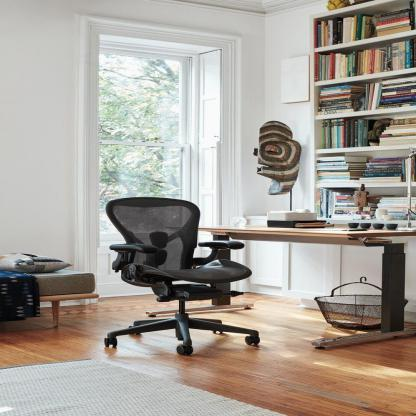bed: (0, 245, 100, 329)
chair: (99, 196, 263, 361)
door: (194, 48, 222, 279)
table: (195, 215, 416, 356)
